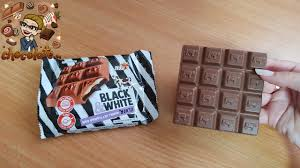Chocolate: (31, 53, 162, 136), (174, 43, 266, 145)
